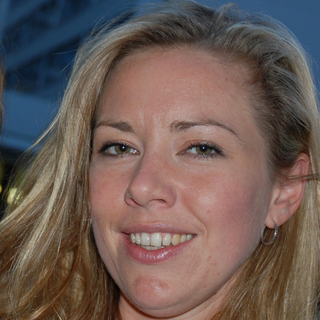eye: (90, 136, 149, 164), (171, 138, 230, 165)
